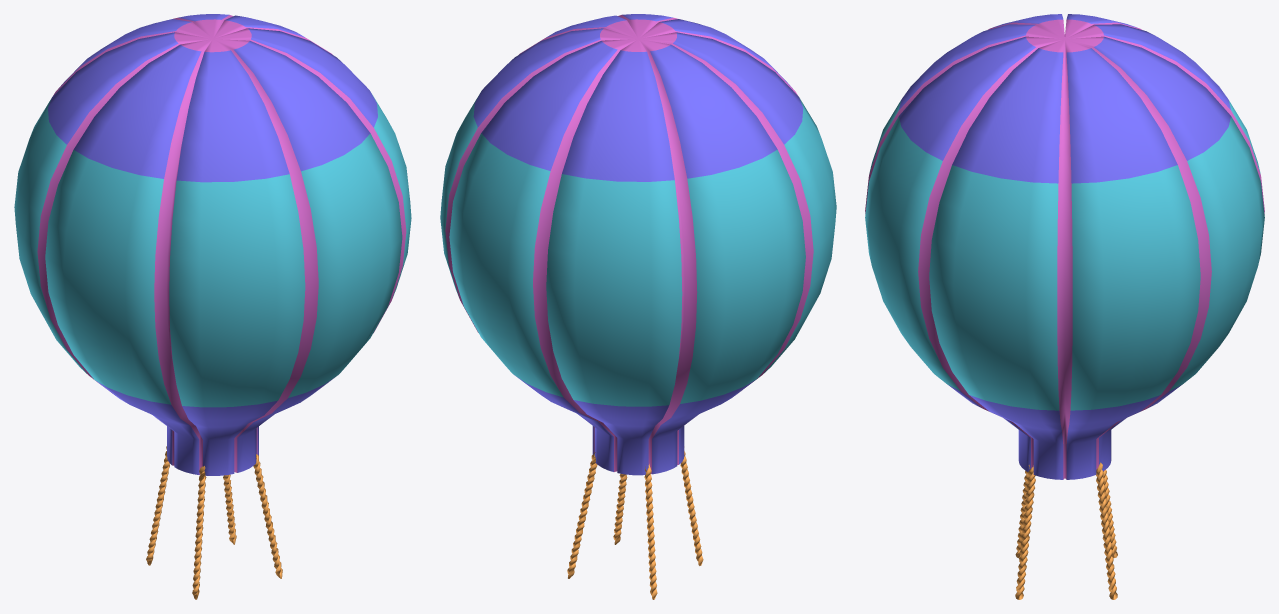
The model's file is bolon_catch.fbx.
3 views of the same model, side by side, from view 1: azimuth 30°, elevation 25°; view 2: azimuth 150°, elevation 25°; view 3: azimuth 270°, elevation 25° (orthographic).
Parts seen in each view (by area): view 1: Sphere; view 2: Sphere; view 3: Sphere.
Boxes of the visible parts, <box> form: Sphere: <box>14,14,411,599</box>; Sphere: <box>440,14,836,599</box>; Sphere: <box>865,14,1264,599</box>.
Size of the model in its own units: 412 by 617 by 412.
